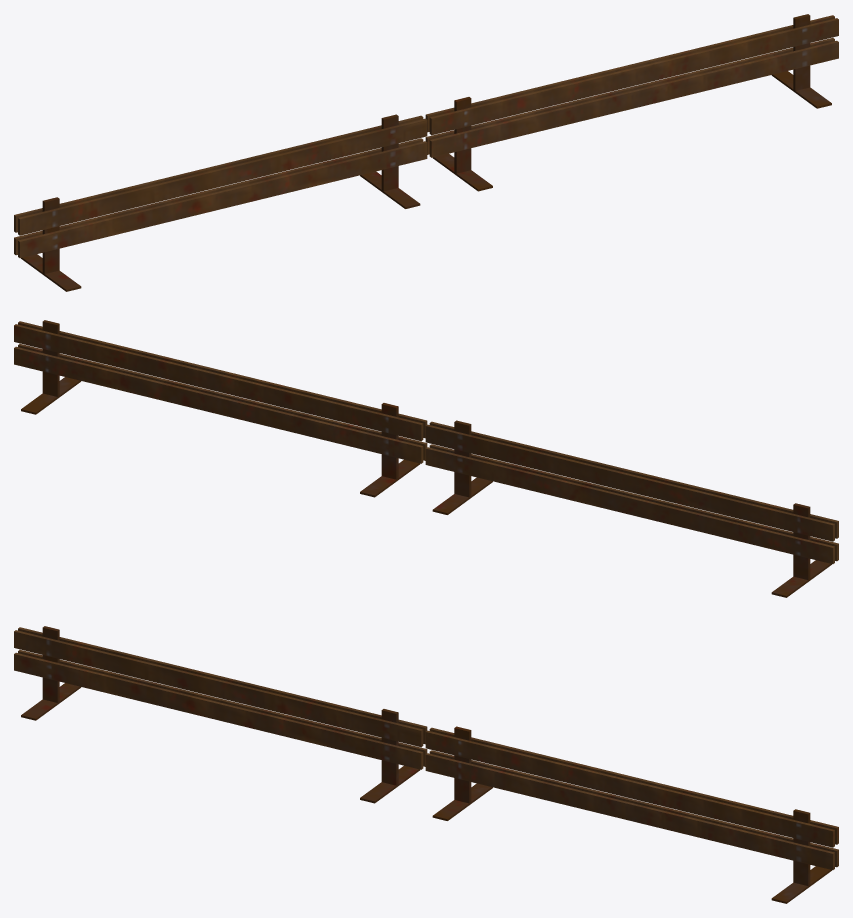
File: Object_Fence_Perfect.fbx
3 views of the same model, one above another, from view 1: azimuth 30°, elevation 25°; view 2: azimuth 150°, elevation 25°; view 3: azimuth 330°, elevation 25° (orthographic).
Visible parts, largest first — view 1: Object_Fence_Perfect; view 2: Object_Fence_Perfect; view 3: Object_Fence_Perfect.
Boxes of the visible parts, x1,y1,x2,y2 form: Object_Fence_Perfect: [14, 14, 838, 291]; Object_Fence_Perfect: [14, 320, 838, 597]; Object_Fence_Perfect: [14, 626, 838, 903].
Bounding box in the file's own units: 17.9 × 1.54 × 1.72.
